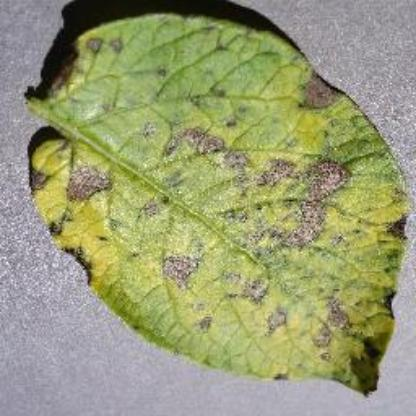Early-Blight: (23, 9, 398, 396)
